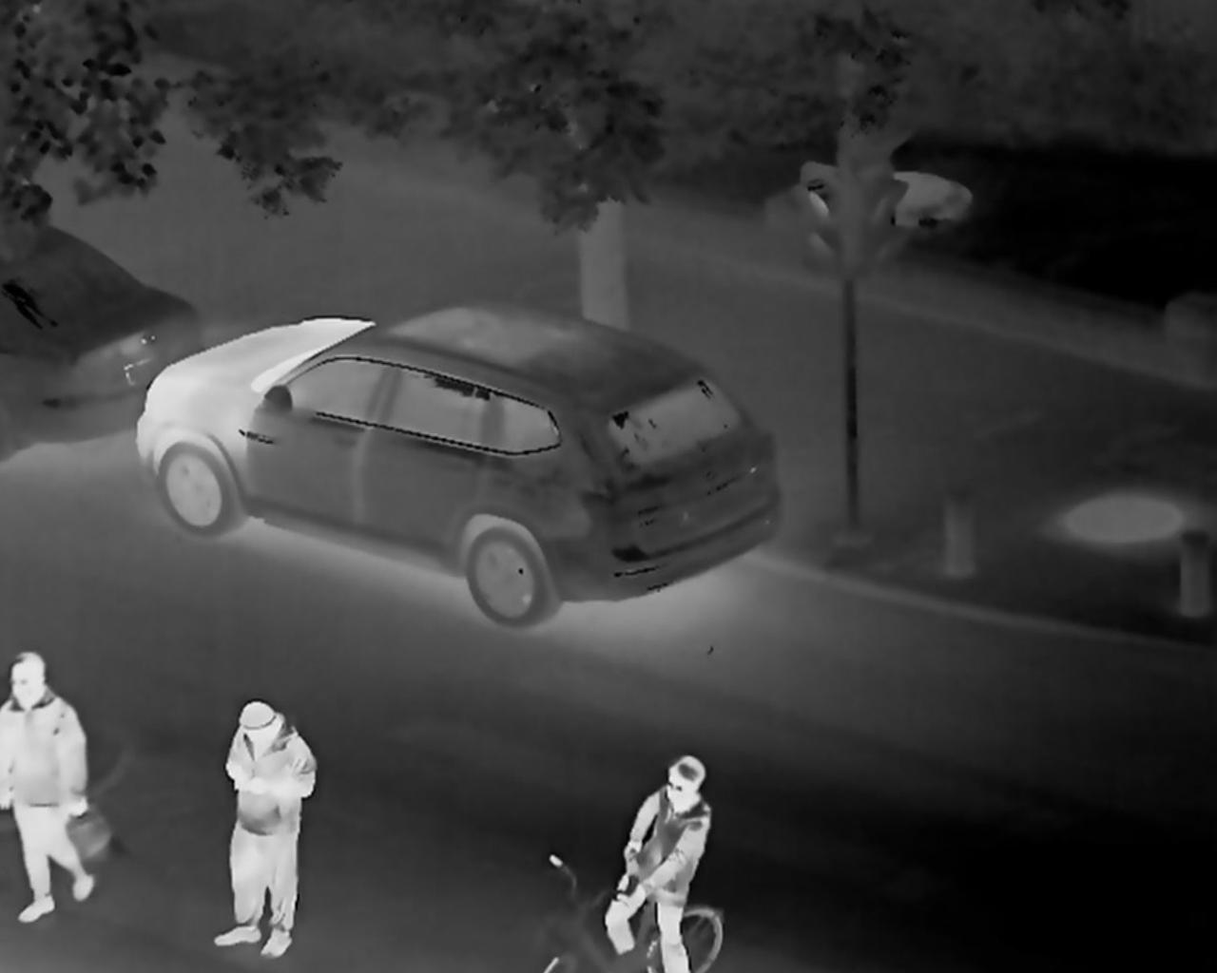person: (211, 697, 316, 959), (3, 650, 95, 926), (602, 750, 713, 973)
